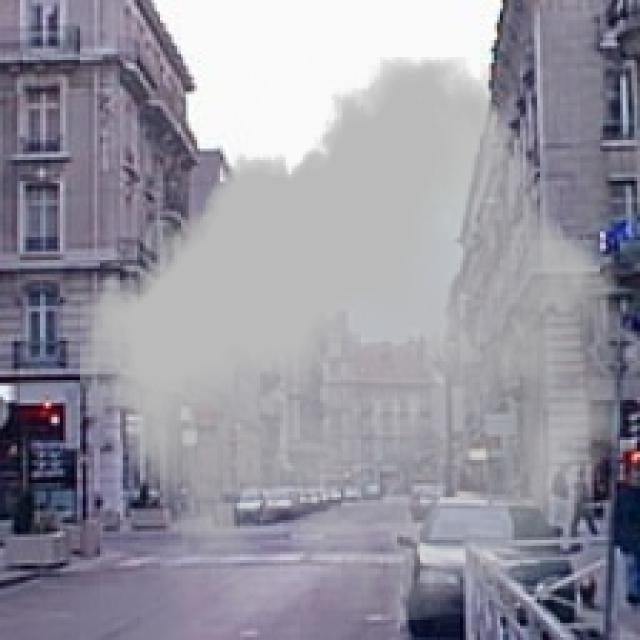Smoke: (80, 57, 626, 620)
